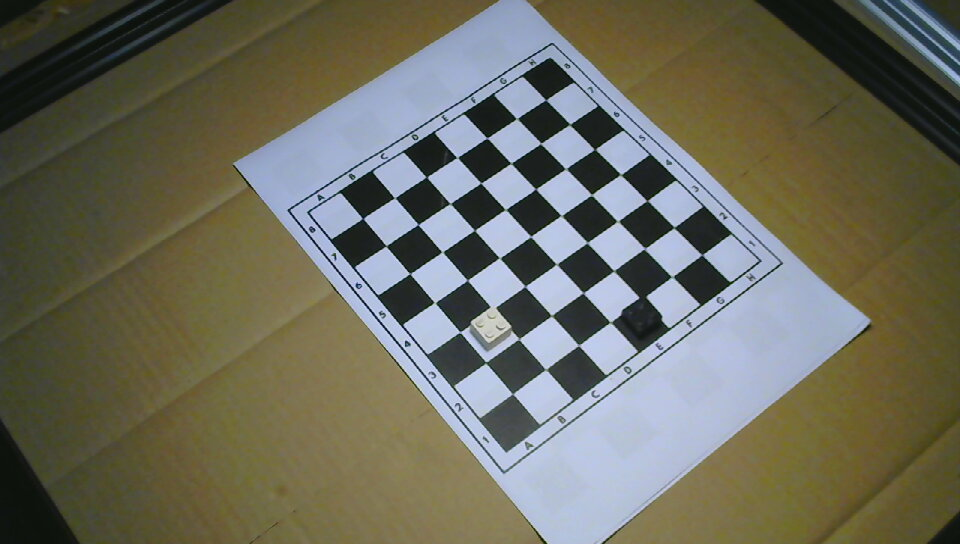bp: (620, 298, 663, 342)
wp: (469, 306, 513, 352)
